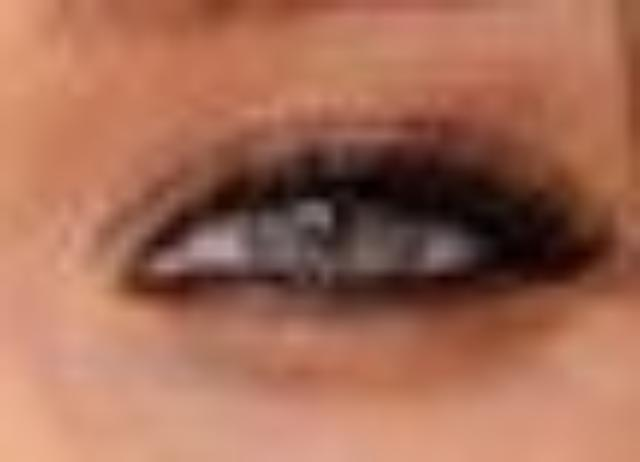eye: (241, 151, 434, 280)
